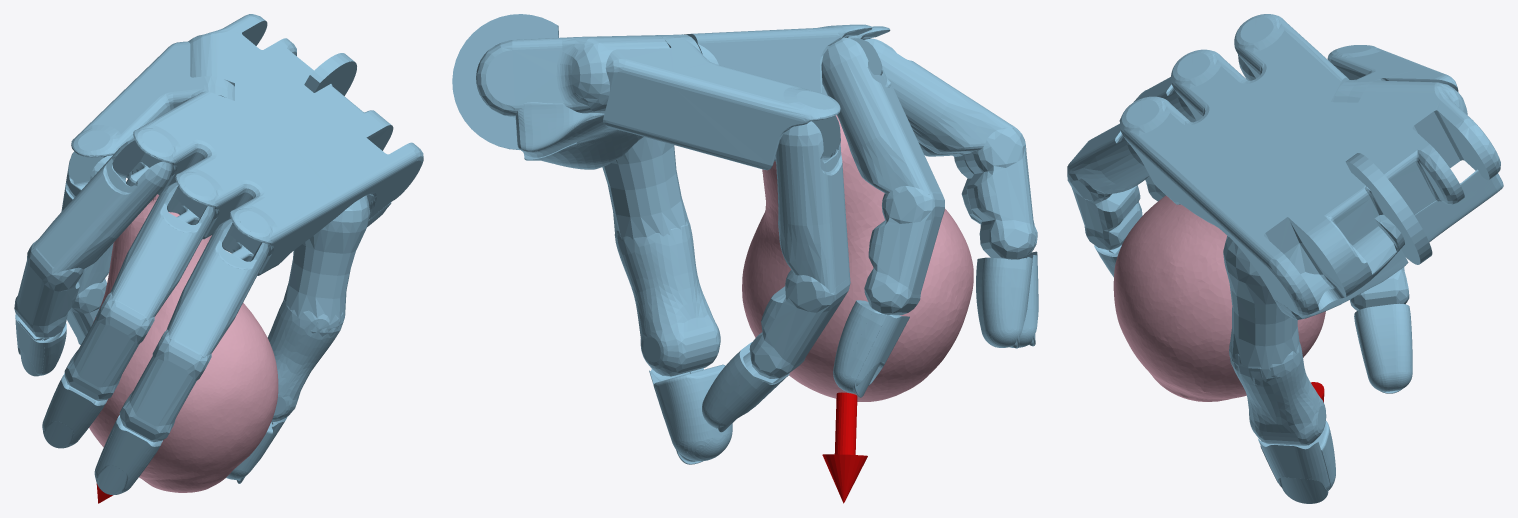
3 renders of one model, left to right at view 1: azimuth 30°, elevation 25°; view 2: azimuth 150°, elevation 25°; view 3: azimuth 270°, elevation 25°, orthographic. The views are drawn at different scales.
Parts seen in each view (by area): view 1: world, pear.stl; view 2: world, pear.stl; view 3: world, pear.stl.
Part boxes in pixels (x1,y1,x2,y2): world: [14, 14, 423, 503]; pear.stl: [89, 194, 278, 492]; world: [452, 14, 1038, 503]; pear.stl: [742, 115, 973, 401]; world: [1067, 14, 1503, 503]; pear.stl: [1113, 195, 1325, 401].
Bounding box in the file's own units: 0.1615 × 0.1478 × 0.1342.
